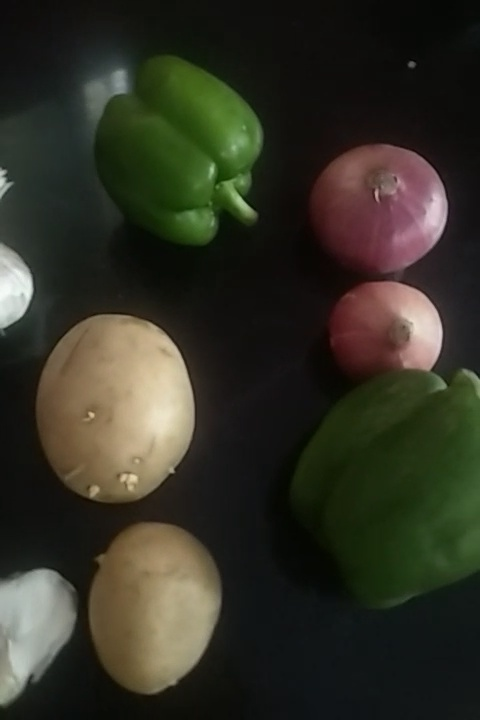capsicum: (298, 367, 480, 618), (99, 42, 259, 251)
garlic: (1, 562, 69, 693), (1, 161, 33, 348)
onion: (317, 143, 437, 274), (308, 283, 443, 381)
potato: (32, 311, 186, 498), (82, 522, 213, 696)
